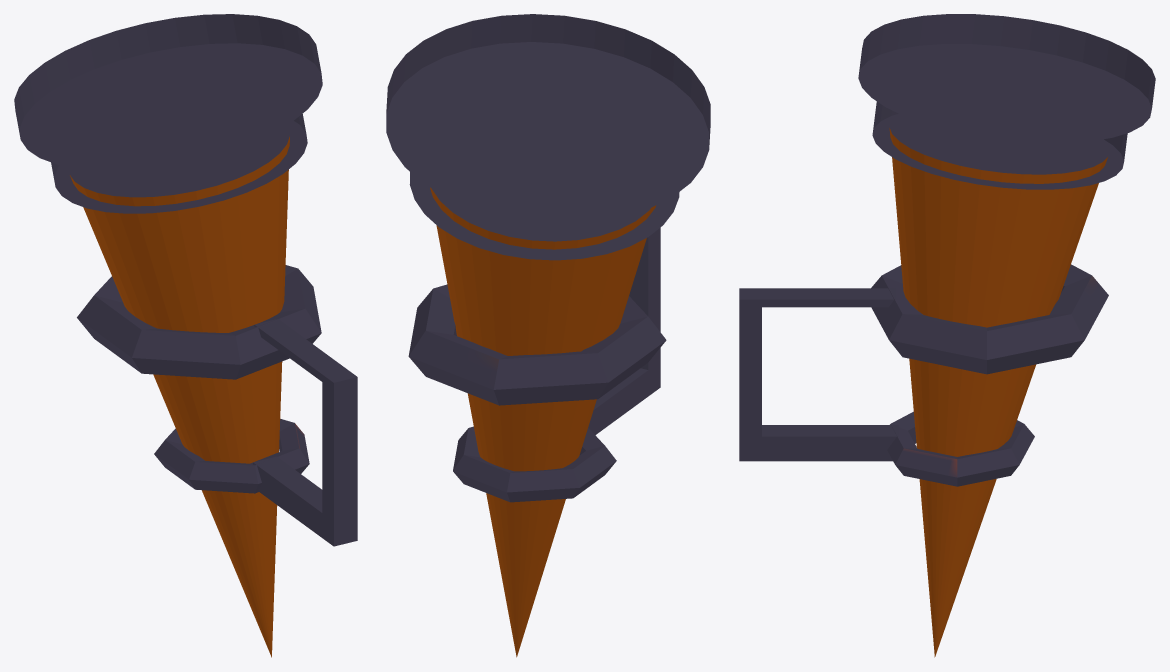
The model's file is SM_tocha.glb.
The picture shows the model from 3 angles, left to right: view 1: azimuth 30°, elevation 25°; view 2: azimuth 150°, elevation 25°; view 3: azimuth 270°, elevation 25°; orthographic projection. The views are drawn at different scales.
Parts seen in each view (by area): view 1: Cubo; view 2: Cubo; view 3: Cubo.
Part boxes in pixels (x1,y1,x2,y2): Cubo: (14, 14, 357, 657); Cubo: (386, 14, 710, 657); Cubo: (739, 14, 1155, 657).
Size of the model in its own units: 0.5829 by 1.22 by 0.7883.
Materials: 1 (1 with a texture image).
